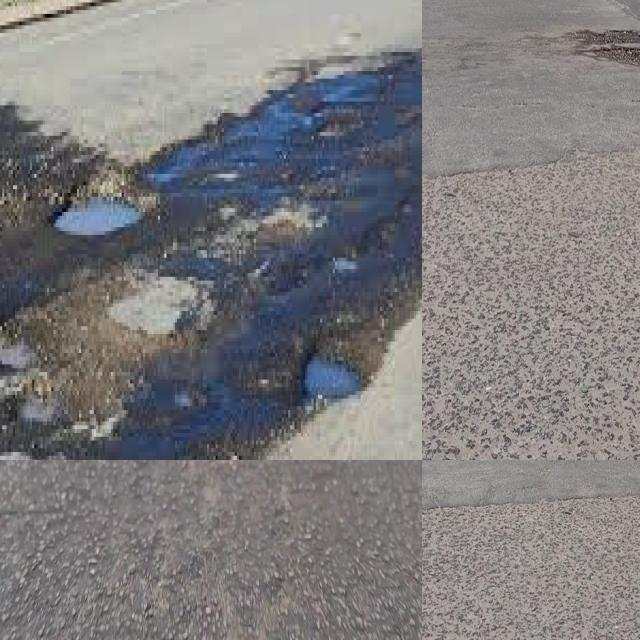Pothole: (102, 402, 275, 460), (53, 166, 141, 239), (578, 28, 640, 70), (305, 361, 363, 402), (216, 121, 256, 159), (19, 380, 51, 422), (0, 342, 36, 376)
